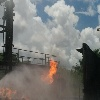fire: (41, 57, 58, 86), (1, 86, 27, 100)
